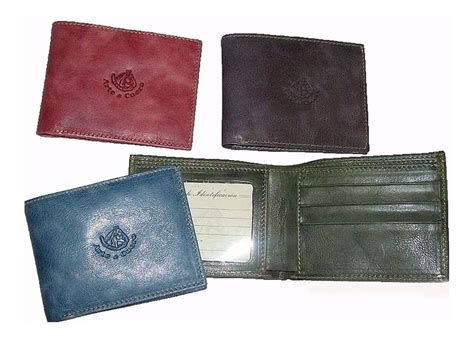cuero: (27, 20, 451, 322)
